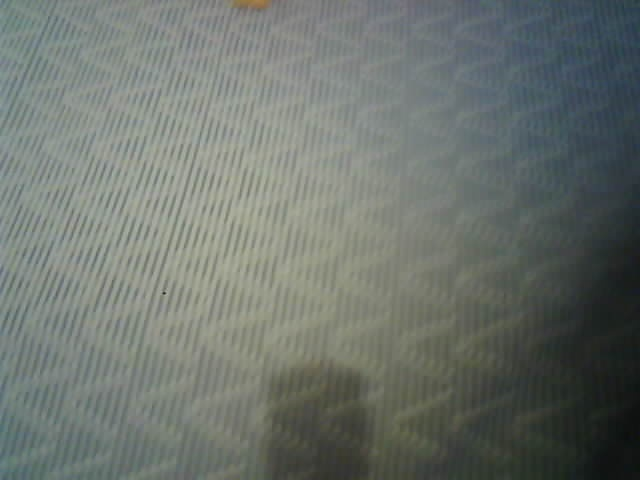lego: (229, 1, 273, 10)
